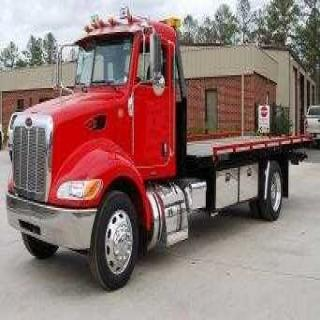Towing_truck: (5, 7, 314, 292)
